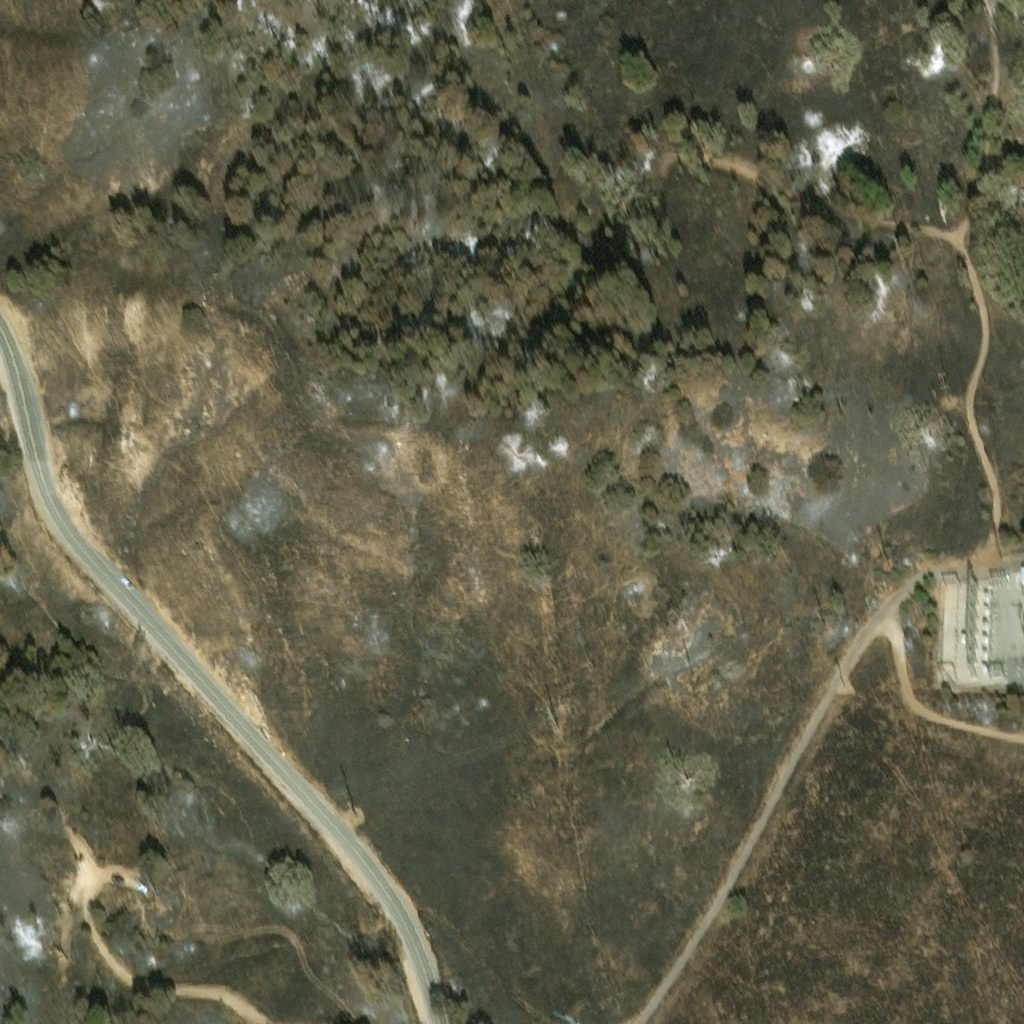0 no-damage: (1013, 563, 1023, 585)
